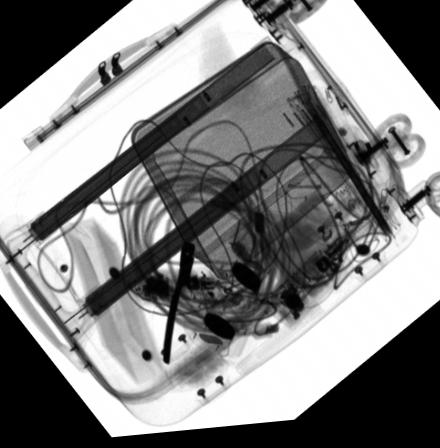Wrench: (161, 242, 194, 367)
